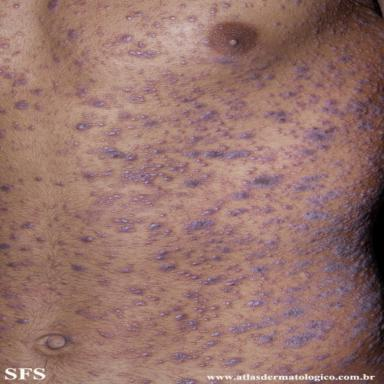lichen: (288, 180, 383, 374), (278, 54, 383, 178), (300, 0, 384, 49), (170, 87, 226, 132), (228, 306, 307, 333), (201, 220, 263, 253), (281, 319, 335, 349), (223, 265, 273, 293), (213, 89, 258, 120), (246, 286, 309, 307), (118, 164, 164, 191), (179, 145, 252, 162), (243, 236, 279, 265), (153, 136, 205, 154), (141, 68, 178, 93), (121, 190, 168, 208), (88, 146, 137, 161), (243, 174, 285, 191), (288, 174, 327, 192), (246, 56, 280, 71), (75, 210, 105, 226), (263, 109, 297, 123), (247, 331, 278, 346), (114, 218, 144, 233), (185, 219, 215, 234), (81, 168, 113, 181), (164, 156, 188, 173), (295, 94, 319, 110), (183, 173, 210, 187), (75, 310, 109, 321), (276, 85, 302, 99), (249, 152, 277, 165), (295, 59, 313, 79), (259, 217, 290, 228), (95, 193, 123, 205), (75, 49, 92, 67), (169, 353, 199, 363), (81, 98, 109, 108), (213, 58, 243, 67), (159, 117, 186, 127), (135, 15, 154, 29), (177, 320, 199, 332), (340, 41, 360, 54), (7, 260, 35, 269), (77, 122, 105, 131), (199, 276, 226, 285), (221, 358, 243, 369), (213, 127, 232, 139), (198, 133, 217, 145), (67, 29, 80, 46), (128, 50, 155, 58), (250, 205, 276, 213), (116, 263, 134, 274), (116, 85, 138, 94), (188, 54, 210, 63), (117, 109, 131, 122), (173, 54, 187, 67), (114, 306, 129, 318), (203, 205, 221, 215), (200, 341, 219, 350), (228, 192, 250, 199), (103, 127, 120, 136), (127, 95, 145, 103), (142, 119, 160, 127), (102, 39, 120, 47), (157, 264, 177, 271), (182, 249, 196, 259), (126, 11, 143, 19), (146, 223, 165, 230), (47, 0, 59, 11), (175, 378, 197, 384), (314, 353, 330, 361), (155, 251, 169, 260), (228, 209, 246, 216), (105, 93, 117, 103), (116, 35, 133, 42), (65, 141, 79, 149), (129, 379, 151, 384), (167, 336, 185, 342), (99, 331, 114, 338), (95, 230, 108, 238), (16, 101, 29, 109), (13, 78, 26, 86), (237, 133, 254, 139), (75, 85, 89, 92), (174, 313, 187, 320), (72, 264, 85, 271), (53, 79, 60, 92), (119, 348, 134, 354), (211, 331, 226, 337), (80, 236, 95, 242), (13, 122, 23, 131), (246, 167, 257, 175), (97, 26, 105, 37), (132, 114, 149, 119), (250, 362, 262, 369), (277, 127, 286, 136), (183, 293, 199, 298), (162, 229, 172, 237), (0, 243, 10, 251), (173, 193, 193, 197), (273, 353, 286, 359), (210, 7, 217, 18), (99, 279, 110, 286), (254, 82, 265, 89), (187, 274, 199, 280), (211, 255, 223, 261), (31, 89, 43, 95), (143, 156, 155, 162), (221, 2, 231, 9), (201, 39, 211, 46), (135, 353, 152, 357), (88, 371, 99, 377), (0, 185, 11, 191), (249, 73, 260, 79), (157, 11, 168, 17), (74, 0, 85, 6), (193, 307, 206, 312), (21, 223, 34, 228), (35, 103, 43, 111), (0, 66, 9, 73), (134, 301, 146, 306), (196, 299, 208, 304), (200, 258, 208, 265), (10, 233, 18, 240), (53, 55, 61, 62), (134, 131, 142, 138), (137, 41, 145, 48), (169, 205, 183, 209), (170, 306, 181, 311), (5, 73, 16, 78), (264, 74, 275, 79), (188, 16, 197, 22), (0, 43, 9, 49), (165, 57, 174, 63), (98, 261, 111, 265), (214, 200, 227, 204), (160, 312, 170, 317), (133, 290, 143, 295), (57, 240, 67, 245), (75, 92, 85, 97), (163, 176, 173, 181), (293, 161, 303, 166), (254, 146, 264, 151), (16, 319, 28, 323), (210, 305, 218, 311), (156, 41, 162, 49), (198, 364, 213, 367), (133, 323, 142, 328), (200, 328, 209, 333), (147, 32, 156, 37), (226, 343, 235, 348), (80, 25, 85, 34), (154, 331, 165, 335), (20, 247, 31, 251), (124, 125, 135, 129), (150, 7, 161, 11), (160, 0, 166, 7), (28, 125, 35, 131), (223, 16, 237, 19), (243, 3, 253, 7), (205, 356, 213, 361), (178, 271, 188, 275), (55, 182, 65, 186), (157, 140, 167, 144), (126, 66, 134, 71), (0, 37, 10, 41), (190, 351, 203, 354), (126, 328, 139, 331), (155, 360, 164, 364), (172, 247, 181, 251), (213, 324, 222, 328), (0, 207, 9, 211), (37, 65, 49, 68), (283, 205, 292, 209), (13, 3, 20, 8), (196, 336, 203, 341), (54, 216, 61, 221), (294, 355, 301, 360), (137, 69, 144, 74), (77, 70, 84, 75), (35, 177, 43, 181), (0, 110, 8, 114), (116, 104, 124, 108), (201, 163, 209, 167), (153, 23, 161, 27), (280, 165, 288, 169), (295, 0, 301, 5), (198, 23, 204, 28), (98, 4, 103, 10), (152, 297, 159, 301), (108, 141, 115, 145), (90, 78, 97, 82), (91, 192, 98, 196), (118, 373, 127, 376), (192, 262, 201, 265), (10, 227, 19, 230), (161, 32, 170, 35), (113, 354, 118, 359), (204, 316, 209, 321), (81, 11, 89, 14), (279, 5, 285, 9), (180, 4, 186, 8), (146, 344, 152, 348), (145, 338, 153, 341), (150, 322, 156, 326), (106, 224, 114, 227), (152, 232, 160, 235), (37, 238, 45, 241), (20, 199, 26, 203), (113, 136, 121, 139), (290, 136, 298, 139), (177, 130, 185, 133), (193, 41, 199, 45), (180, 33, 186, 37), (81, 39, 87, 43), (66, 94, 74, 97), (26, 277, 33, 280), (234, 338, 241, 341), (170, 17, 177, 20), (268, 94, 275, 97), (288, 130, 295, 133), (98, 341, 103, 345), (105, 311, 109, 316), (250, 140, 255, 144), (101, 61, 106, 65), (88, 68, 92, 73), (191, 49, 196, 53), (21, 73, 26, 77), (57, 41, 62, 45), (237, 315, 243, 318), (97, 274, 103, 277), (191, 342, 197, 345), (99, 156, 105, 159), (233, 290, 239, 293), (128, 76, 134, 79), (162, 18, 168, 21), (333, 47, 339, 50), (74, 12, 80, 15), (106, 6, 110, 10), (275, 22, 280, 25), (147, 295, 152, 298), (213, 314, 218, 317), (73, 172, 78, 175), (95, 57, 100, 60), (152, 93, 157, 96), (294, 122, 299, 125), (119, 53, 124, 56), (326, 44, 331, 47), (291, 62, 296, 65), (5, 59, 10, 62), (12, 53, 17, 56), (157, 289, 164, 291), (18, 179, 25, 181), (213, 4, 217, 7), (102, 267, 108, 269), (175, 277, 179, 280), (75, 178, 81, 180), (132, 118, 136, 121), (129, 191, 135, 193), (92, 65, 98, 67), (103, 52, 107, 55), (191, 35, 197, 37), (161, 27, 165, 30), (34, 55, 37, 59), (17, 32, 21, 35), (26, 70, 30, 73), (43, 41, 47, 44), (219, 359, 224, 361), (201, 306, 206, 308), (160, 215, 165, 217), (163, 131, 168, 133), (155, 97, 160, 99), (156, 52, 161, 54), (67, 6, 72, 8), (178, 43, 181, 46), (262, 4, 265, 7), (242, 319, 246, 321), (192, 29, 196, 31), (164, 52, 168, 54), (12, 37, 15, 39), (174, 40, 178, 41)
